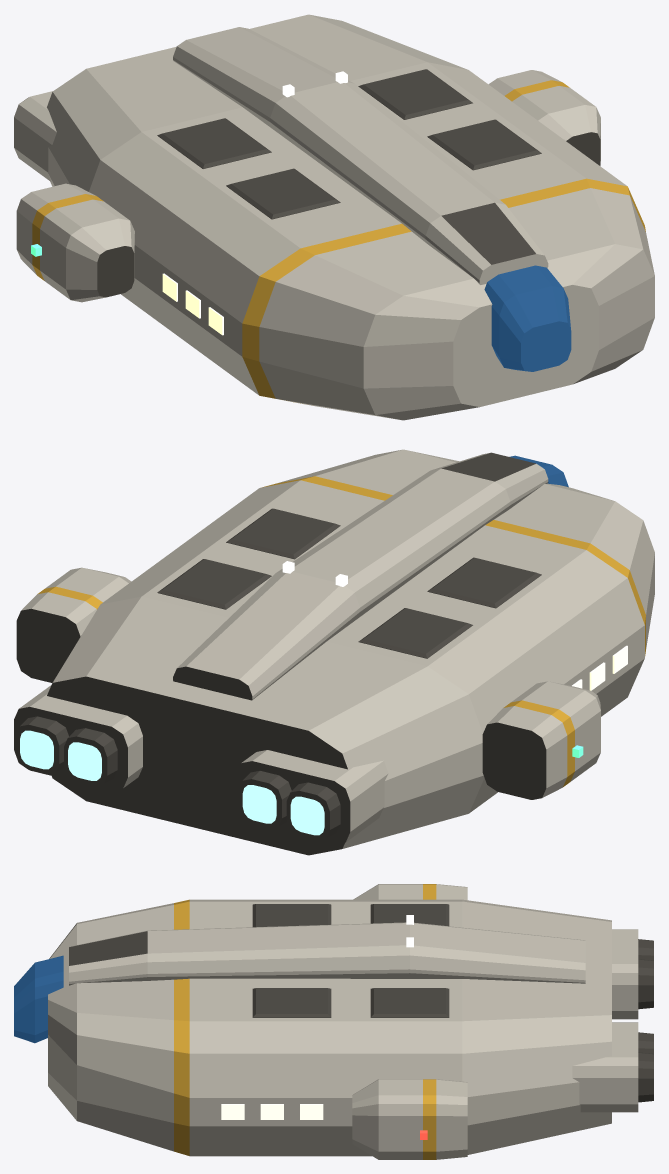
The model's file is keelback.glb.
3 views of the same model, one above another, from view 1: azimuth 30°, elevation 25°; view 2: azimuth 150°, elevation 25°; view 3: azimuth 270°, elevation 25° (orthographic). The views are drawn at different scales.
Visible parts, largest first — view 1: keelback; view 2: keelback; view 3: keelback.
Boxes of the visible parts, x1,y1,x2,y2 form: keelback: [14, 14, 654, 420]; keelback: [14, 449, 654, 855]; keelback: [14, 884, 653, 1159].
Bounding box in the file's own units: 41.37 × 16.04 × 48.88.
